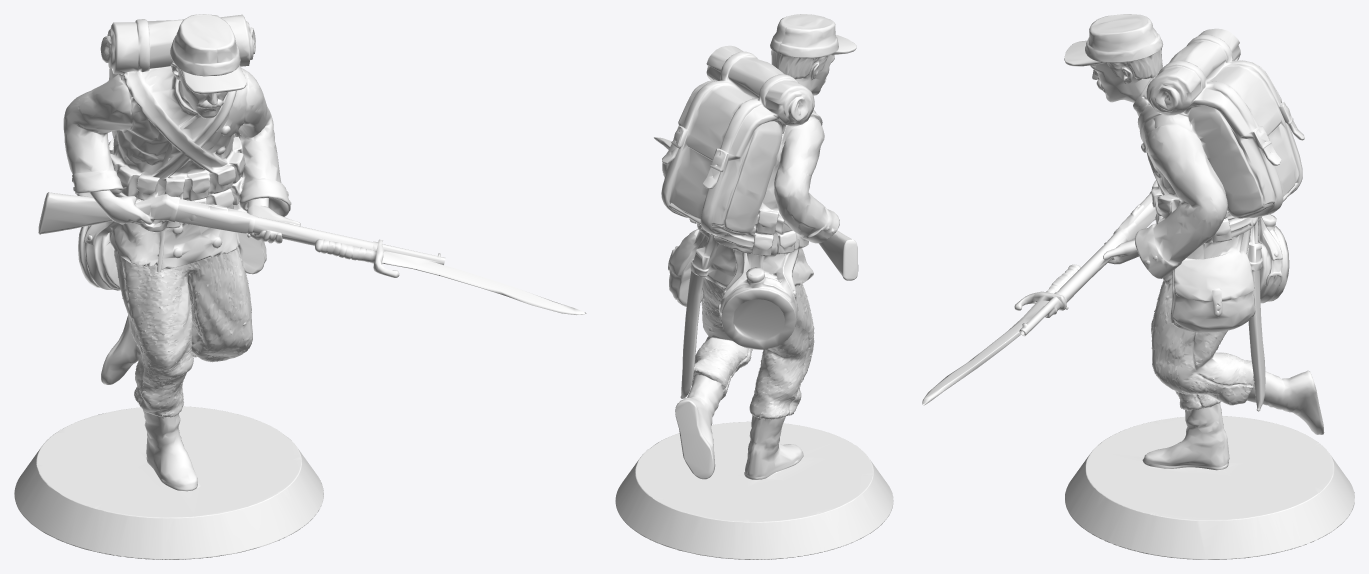
Rendered from Chilean Infantery_pose_trotando_low.glb.
3 renders of one model, left to right at view 1: azimuth 30°, elevation 25°; view 2: azimuth 150°, elevation 25°; view 3: azimuth 270°, elevation 25°, orthographic. The views are drawn at different scales.
Parts seen in each view (by area): view 1: Chilean Infantery_pose_trotando_low; view 2: Chilean Infantery_pose_trotando_low; view 3: Chilean Infantery_pose_trotando_low.
Boxes of the visible parts, x1,y1,x2,y2 form: Chilean Infantery_pose_trotando_low: (14,14,586,559); Chilean Infantery_pose_trotando_low: (615,14,893,559); Chilean Infantery_pose_trotando_low: (922,14,1354,559).
Bounding box in the file's own units: 68.33 × 82.76 × 68.45.
Materials: 1 (1 with a texture image).
